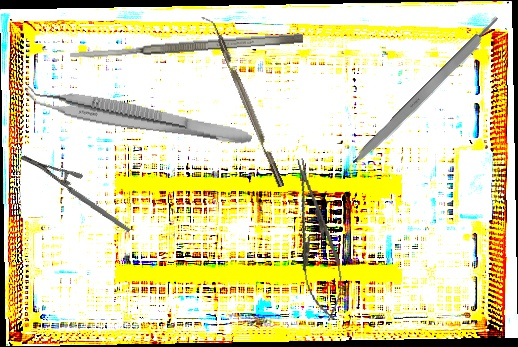Chopper: (200, 11, 285, 192)
Needle Holder: (19, 130, 132, 258), (281, 154, 352, 325)
Scalpel Handle: (349, 14, 505, 170)
Spatula Surgical: (69, 31, 304, 62)
Tissue Forceps: (21, 81, 255, 148)
